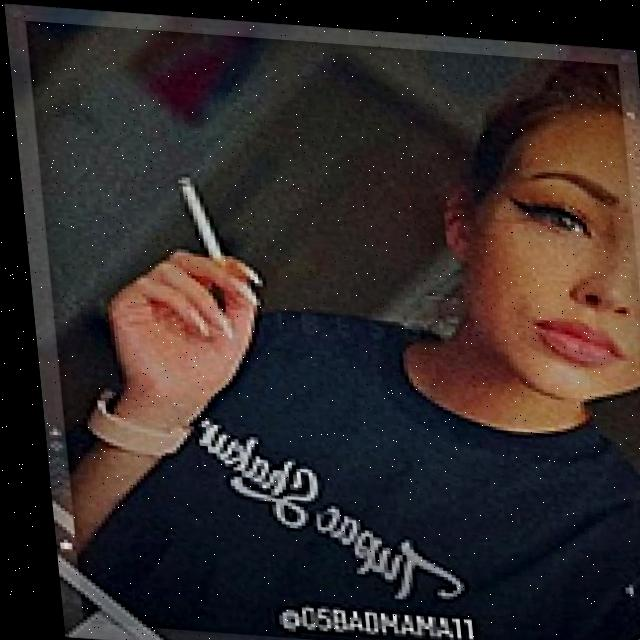cigarette: (174, 172, 221, 257)
